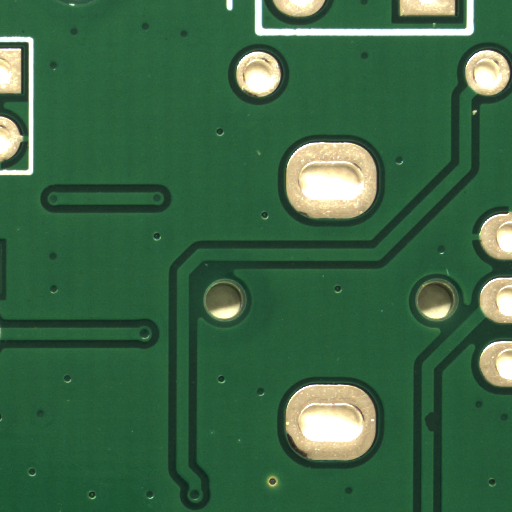Mouse_bite: (430, 421, 439, 440)
